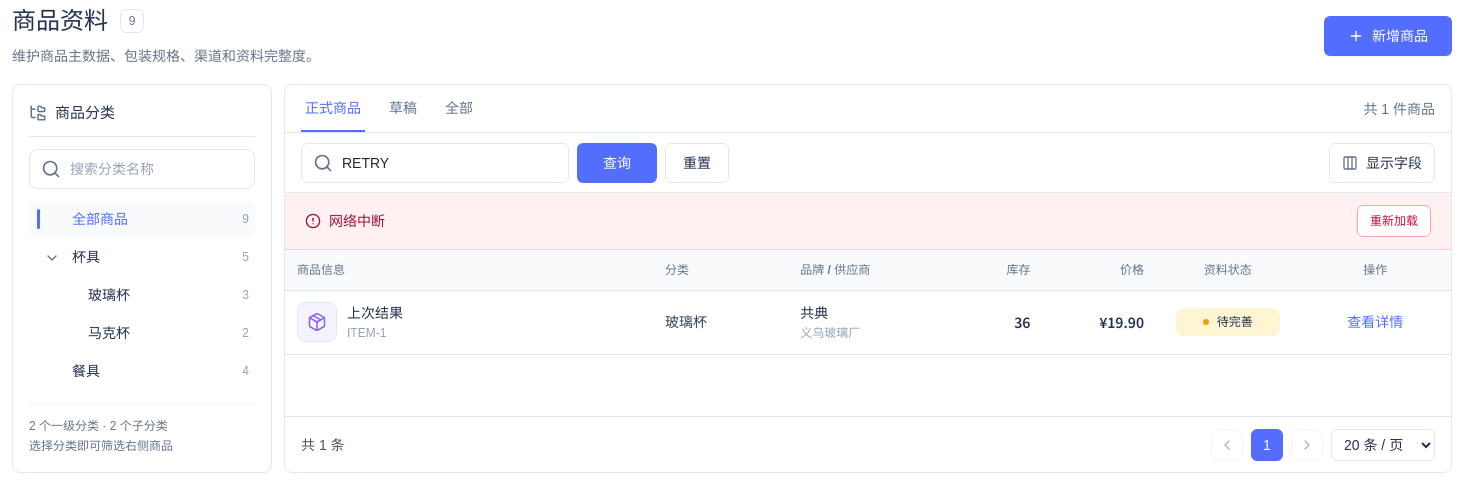
Test case: Task 8 product catalog list › keeps the previous list on failure and retries without changing route filters
This screenshot has width=1464, height=490.
Expected: the message with test id "product-list-error" shows "网络中断", [329,213,385,229]
Click the button with test id "product-list-retry" at (1394, 221), box [1357,205,1431,237]
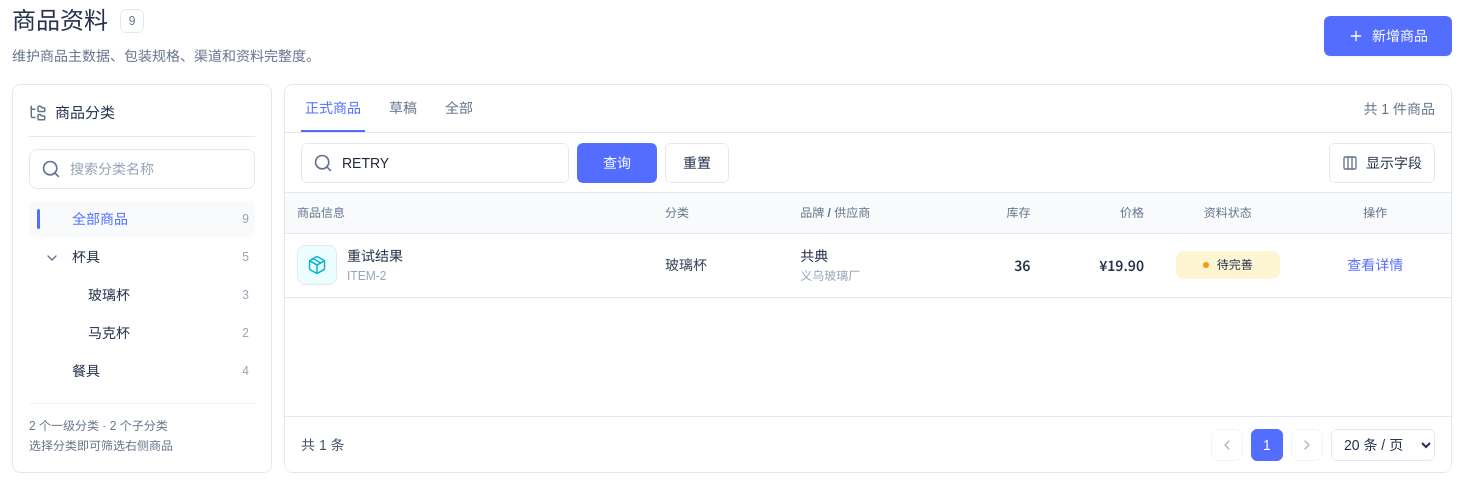
Result: the text "重试结果" is shown at [347,245,403,267]
